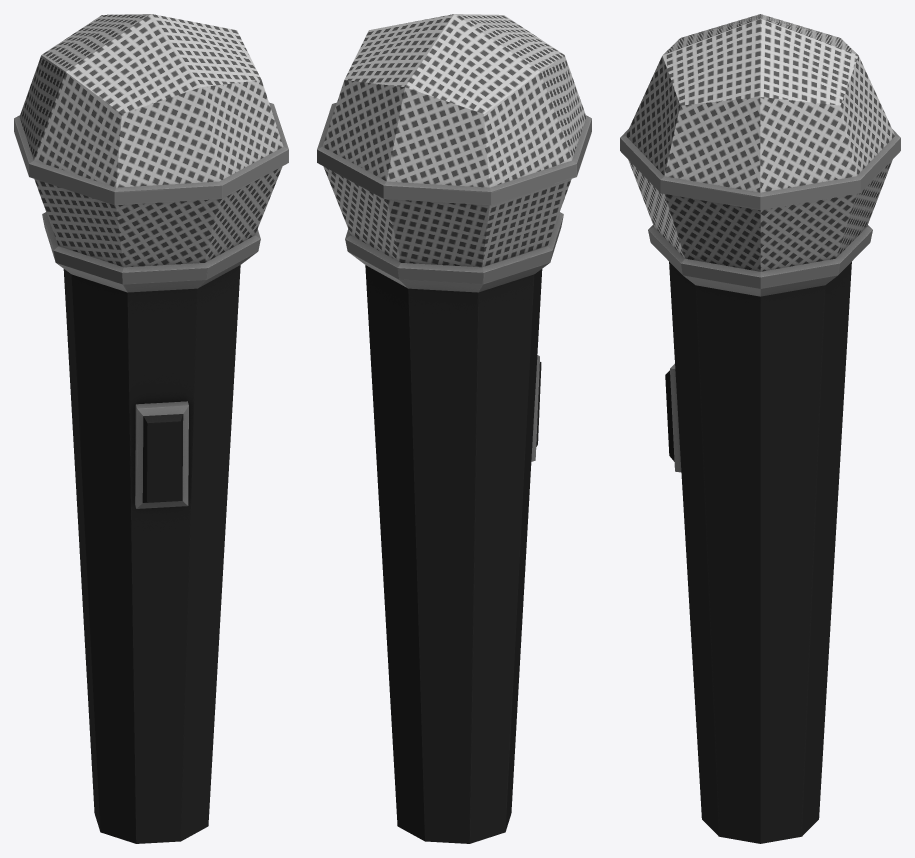
Rendered from Microphone.gltf.
The picture shows the model from 3 angles, left to right: view 1: azimuth 30°, elevation 25°; view 2: azimuth 150°, elevation 25°; view 3: azimuth 270°, elevation 25°; orthographic projection.
Visible parts, largest first — view 1: Microphone_mesh; view 2: Microphone_mesh; view 3: Microphone_mesh.
Boxes of the visible parts, box(x1,y1,x2,y2) form: Microphone_mesh: box(14, 14, 288, 843); Microphone_mesh: box(317, 14, 591, 843); Microphone_mesh: box(620, 14, 900, 843).
Bounding box in the file's own units: 3.54 × 11.14 × 3.54.
1 material, 1 textured.
